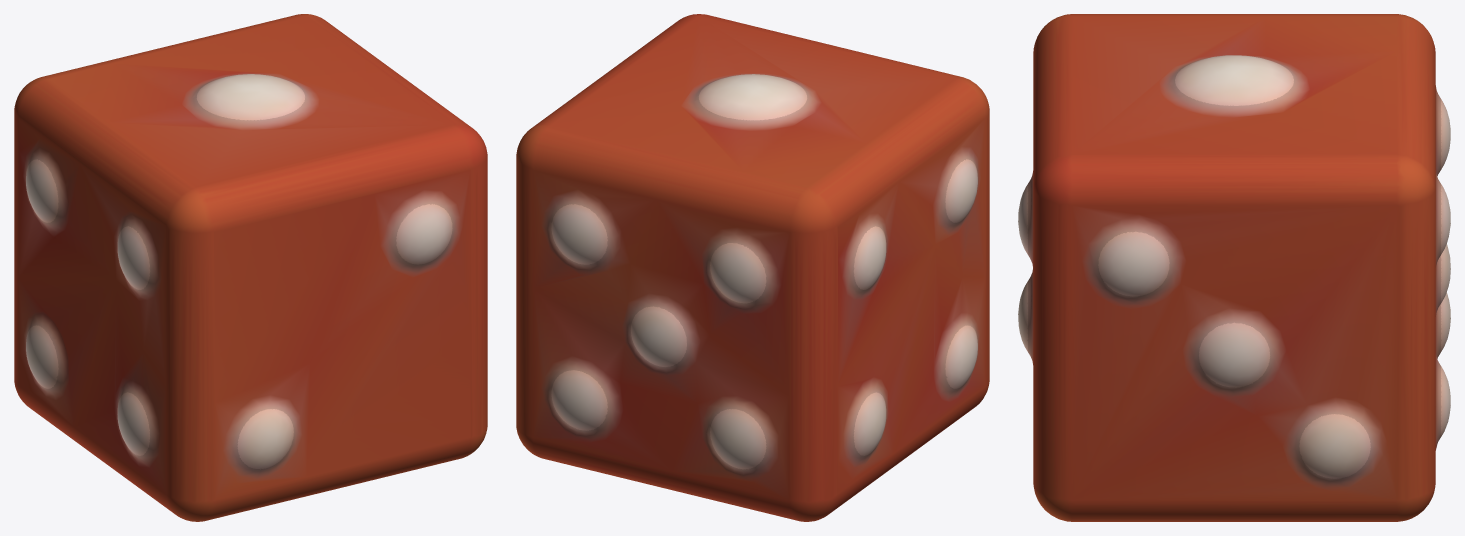
File: die-amanita.glb
3 views of the same model, side by side, from view 1: azimuth 30°, elevation 25°; view 2: azimuth 150°, elevation 25°; view 3: azimuth 270°, elevation 25° (orthographic). The views are drawn at different scales.
Visible parts, largest first — view 1: body; view 2: body; view 3: body.
Boxes of the visible parts, left/top/right/bottom form: body: left=14, top=14, right=487, bottom=521; body: left=516, top=14, right=989, bottom=521; body: left=1018, top=14, right=1450, bottom=521.
Bounding box in the file's own units: 2.37 × 2.38 × 2.37.
